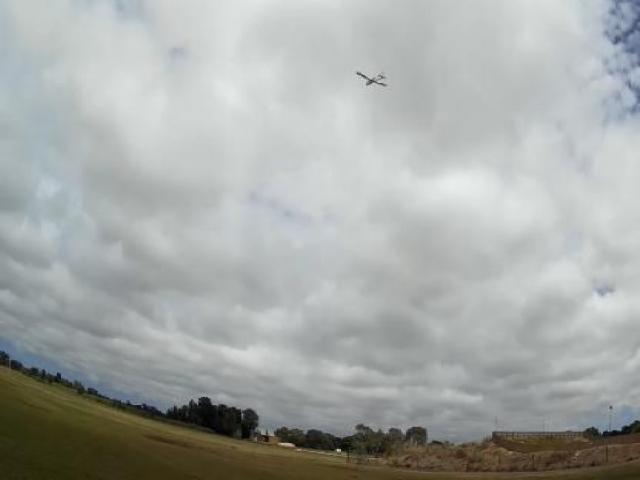uav: (348, 62, 390, 96)
